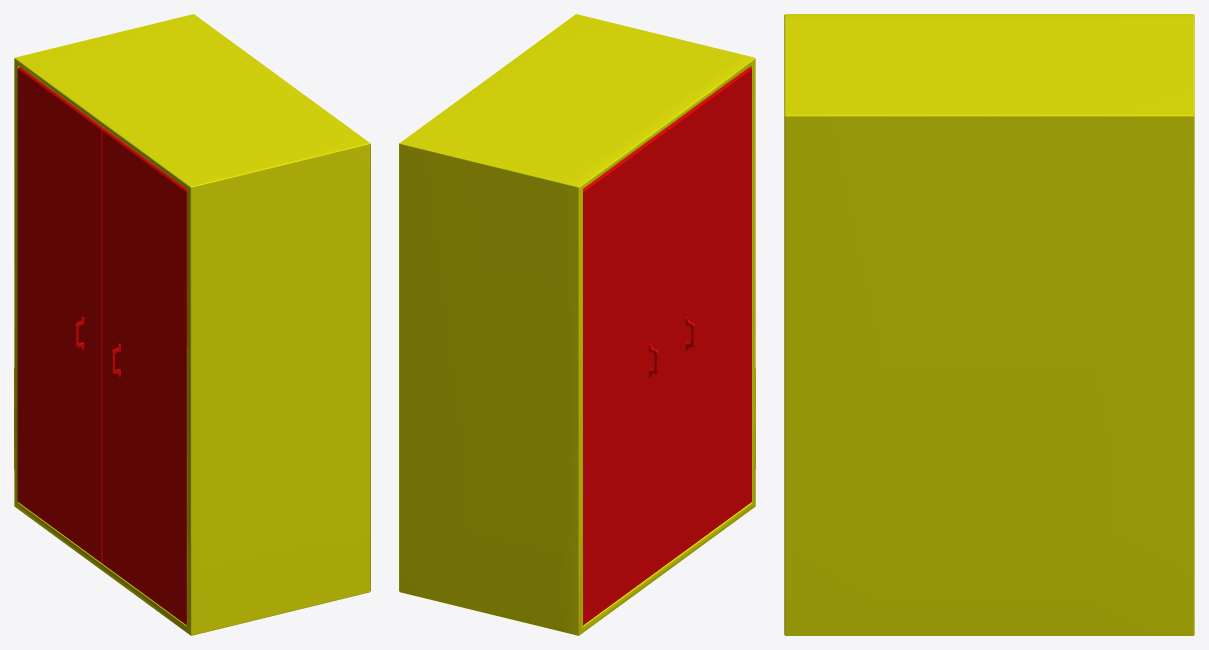
File: Story_1_Bedroom_Wardrobe.fbx
The picture shows the model from 3 angles, left to right: view 1: azimuth 30°, elevation 25°; view 2: azimuth 150°, elevation 25°; view 3: azimuth 270°, elevation 25°; orthographic projection. The views are drawn at different scales.
Parts seen in each view (by area): view 1: Body, Door_2, Door_1; view 2: Body, Door_1, Door_2; view 3: Body.
Part boxes in pixels (box(x1,y1,x2,y2)): Body: box(14, 14, 370, 635); Door_2: box(17, 67, 104, 563); Door_1: box(102, 129, 187, 625); Body: box(399, 14, 755, 635); Door_1: box(664, 67, 751, 563); Door_2: box(583, 129, 667, 625); Body: box(784, 14, 1194, 635).
Bounding box in the file's own units: 36.97 × 84 × 60.
